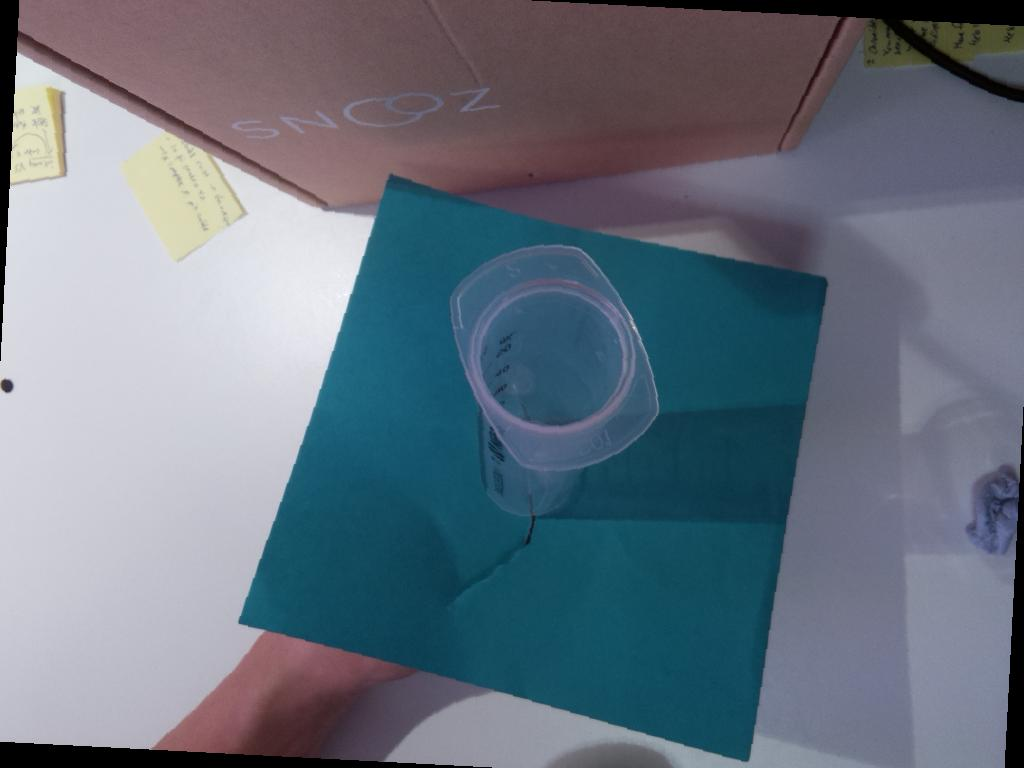clean: (450, 242, 661, 474)
